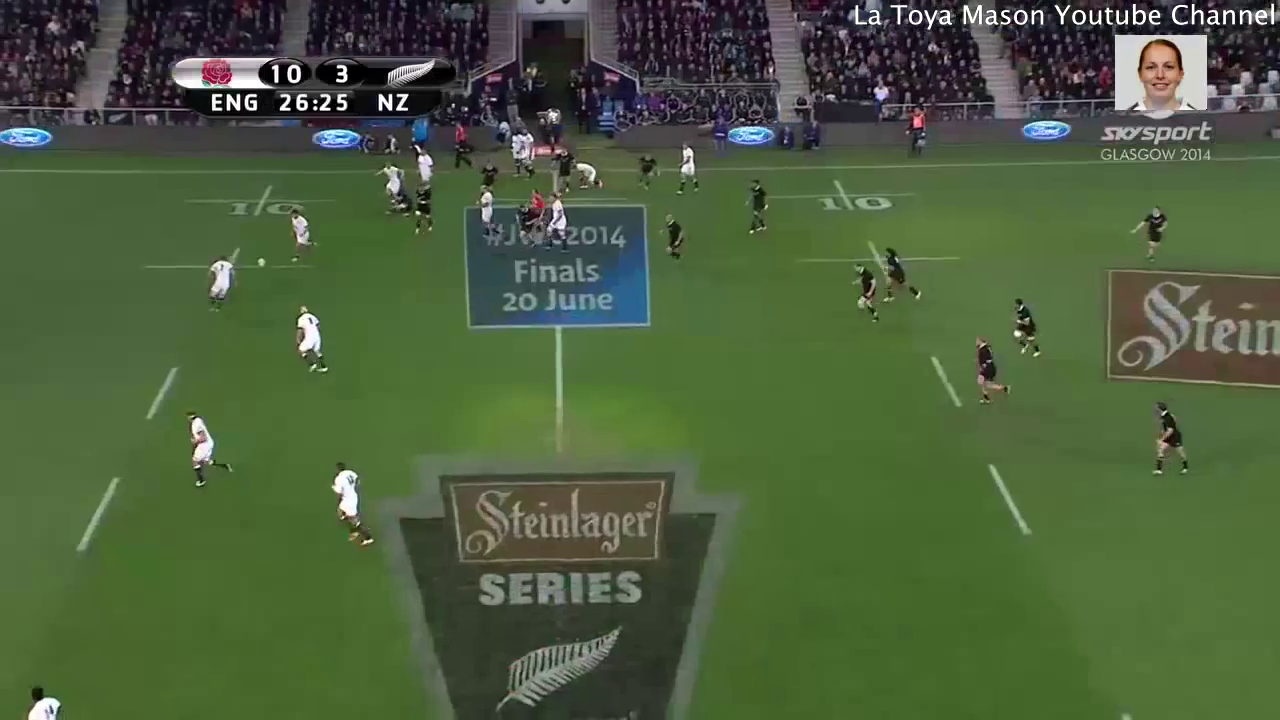10_metre: (146, 245, 325, 295), (766, 175, 917, 220), (799, 243, 966, 281), (187, 183, 333, 224)
ball: (255, 255, 269, 272)
player: (177, 405, 238, 494), (325, 452, 378, 552), (1144, 392, 1198, 483), (966, 328, 1017, 411), (1000, 297, 1049, 365), (289, 304, 333, 376), (878, 245, 925, 307), (845, 260, 886, 324), (1129, 204, 1170, 264), (197, 256, 238, 314), (10, 681, 67, 720), (542, 189, 575, 255), (737, 176, 770, 237), (283, 208, 317, 265), (672, 140, 704, 195), (657, 211, 689, 264), (409, 180, 438, 235), (505, 131, 534, 180), (477, 185, 501, 240), (629, 153, 661, 189), (377, 160, 401, 204), (574, 157, 605, 191), (552, 148, 573, 196), (511, 203, 533, 248), (529, 186, 547, 237), (472, 162, 501, 190), (414, 149, 437, 181), (521, 129, 536, 163)
